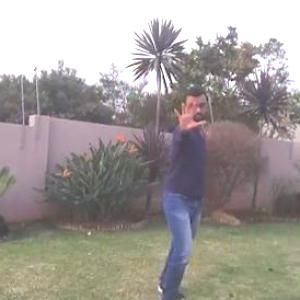follow_hand: (169, 94, 207, 137)
